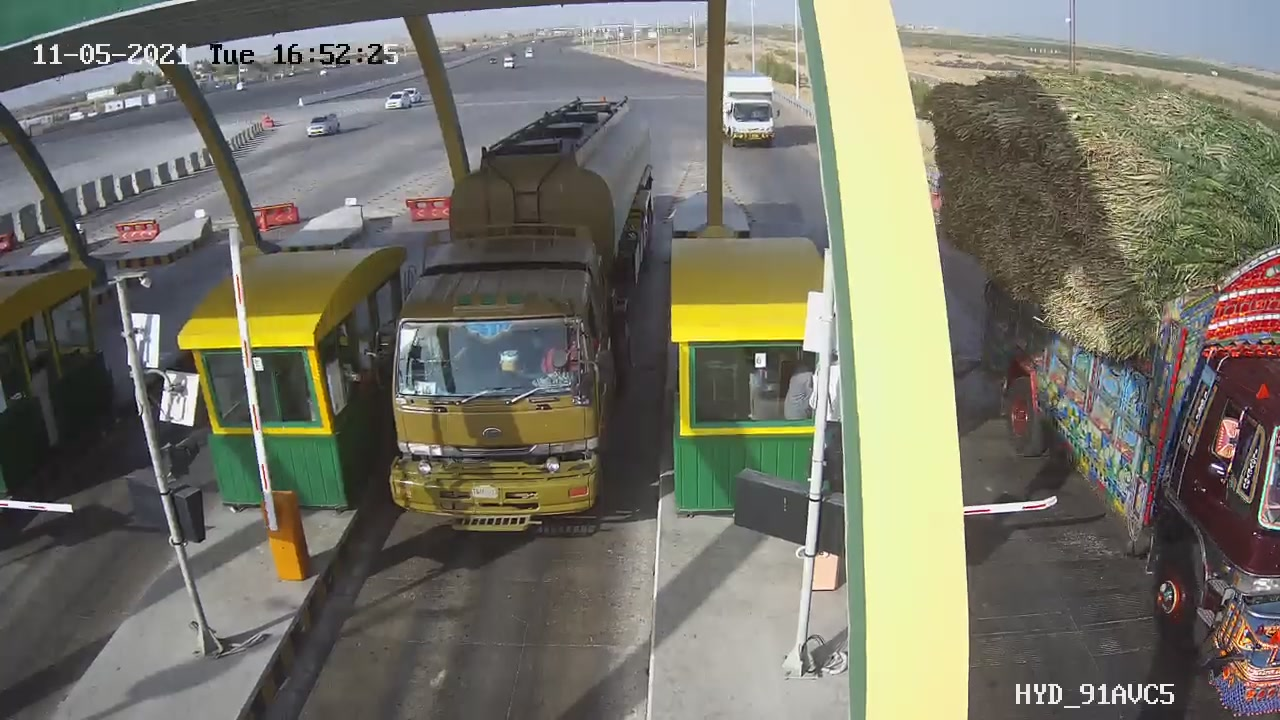F6: (339, 79, 683, 556)
